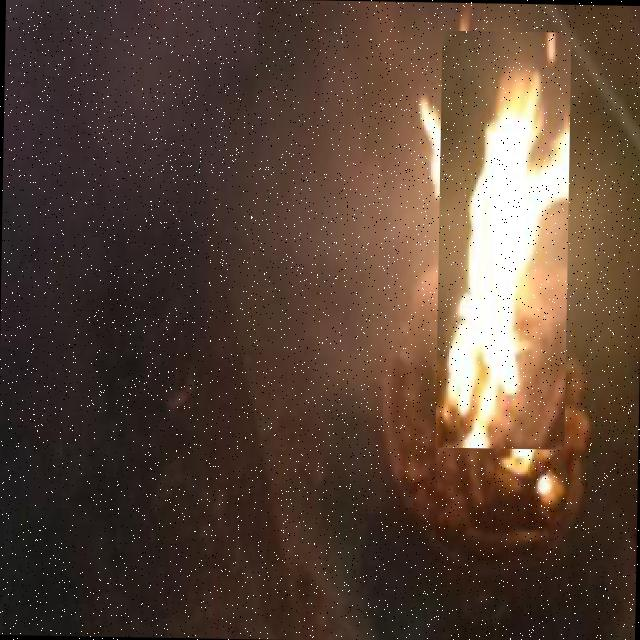fire: (435, 30, 571, 449)
